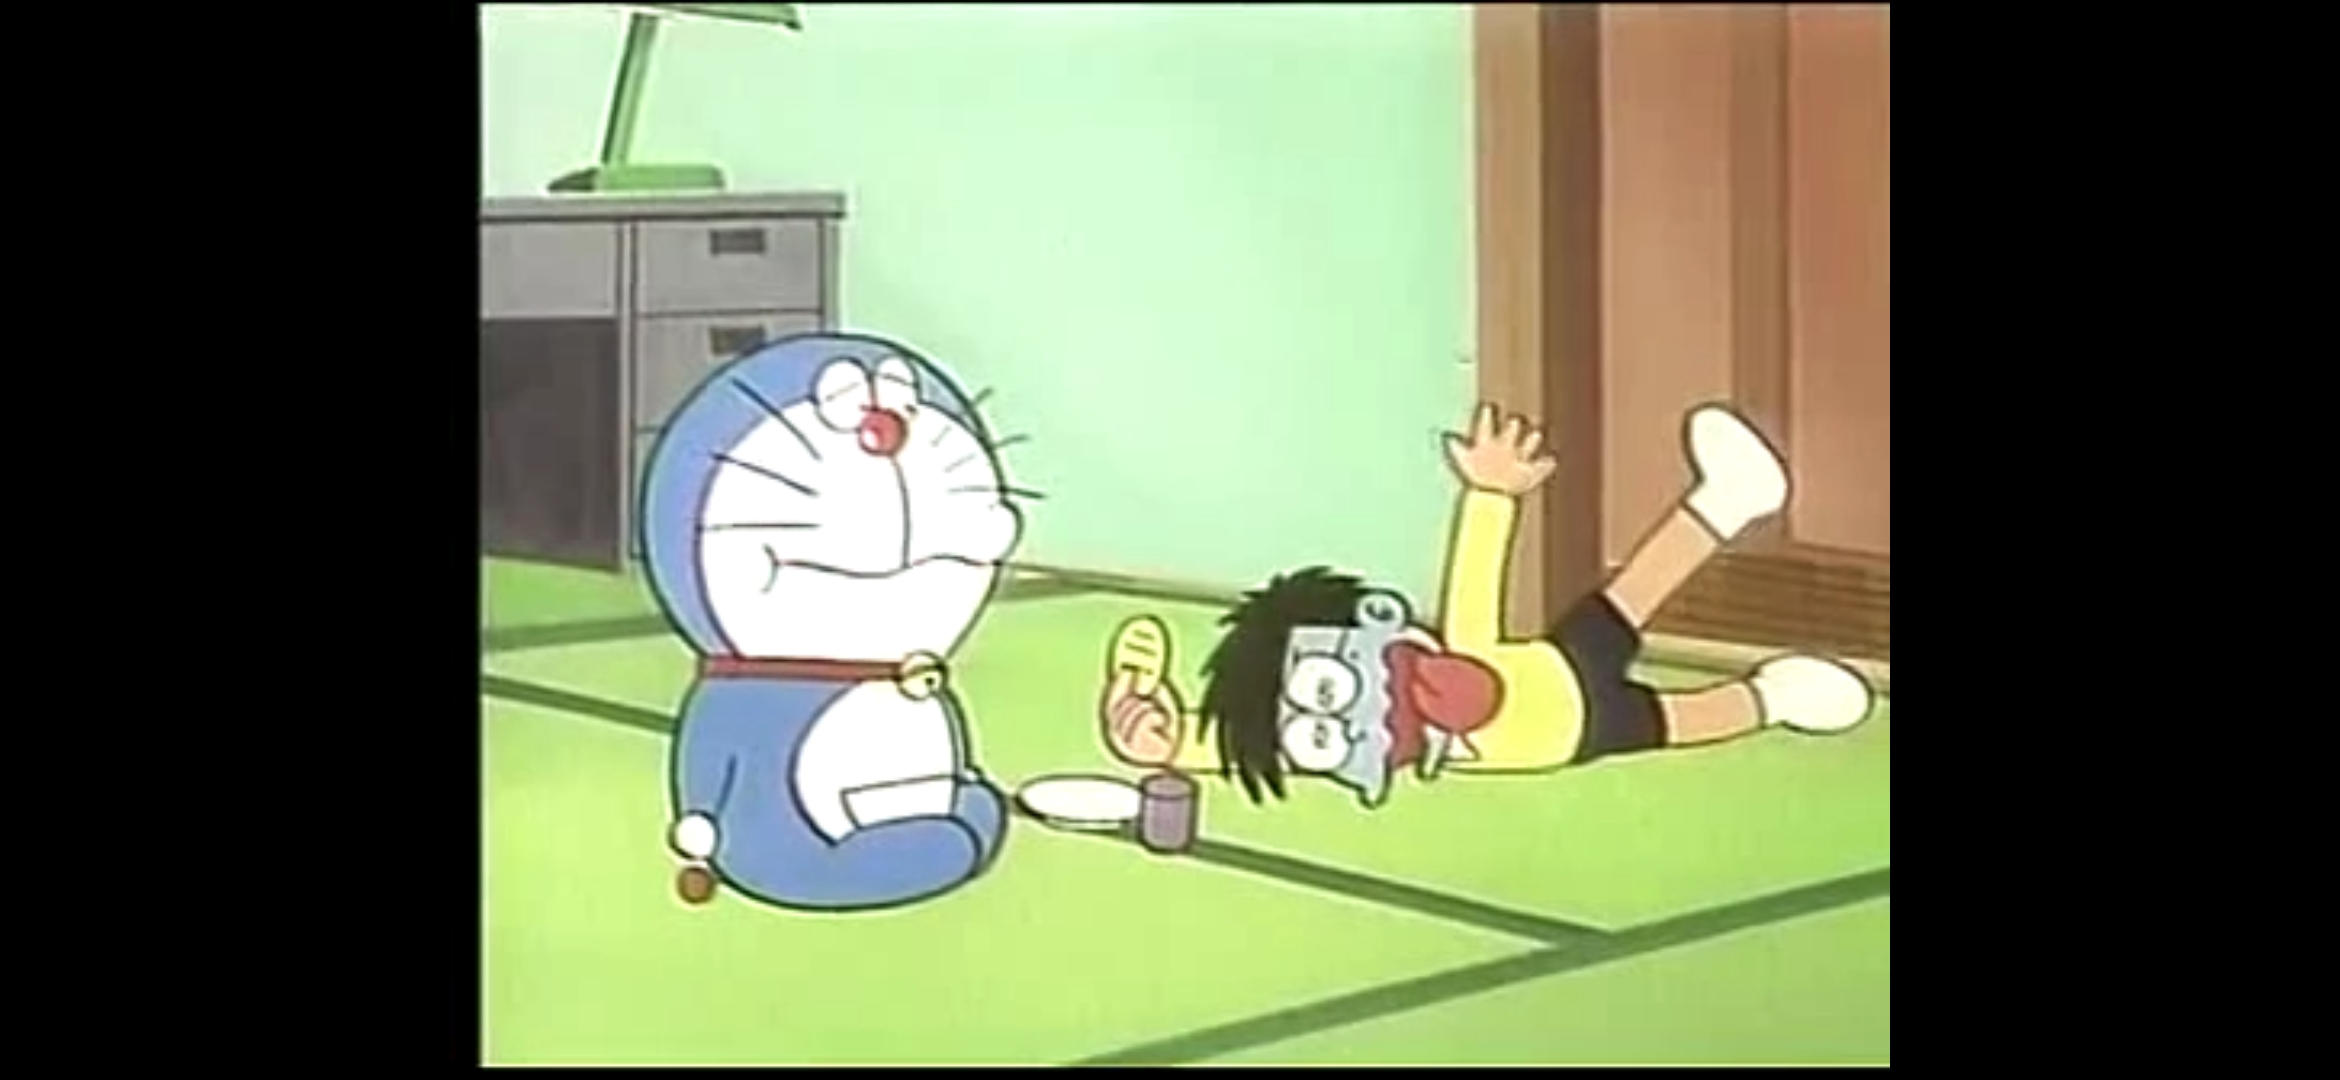Doraemon: (637, 330, 1019, 701)
Nobi: (1195, 562, 1501, 806)
